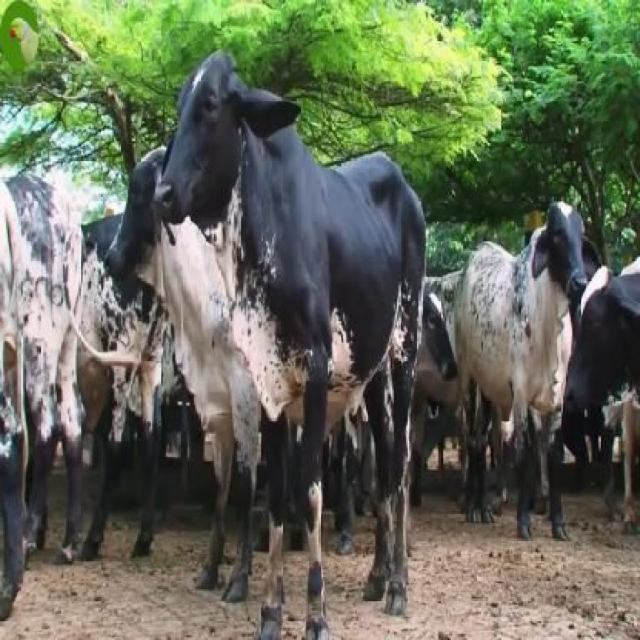Cow: (156, 54, 427, 638), (454, 200, 588, 540)
